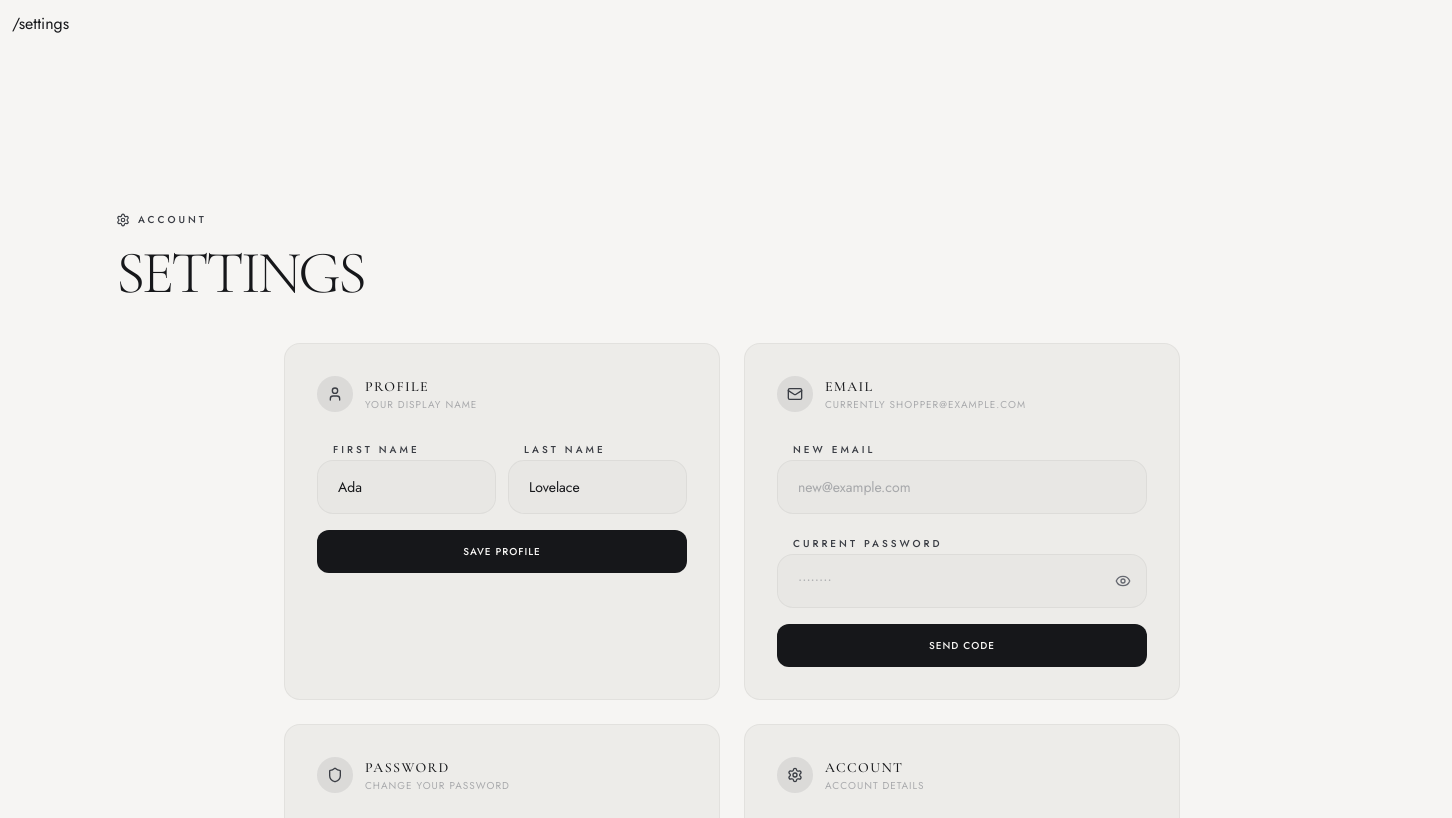
Scenario: SettingsPage › a failed profile save shows a message and leaves the store alone
The width and height of the screenshot is (1452, 818).
Click the button "Save Profile" at {"x": 502, "y": 552}, box left=317, top=530, right=687, bottom=573
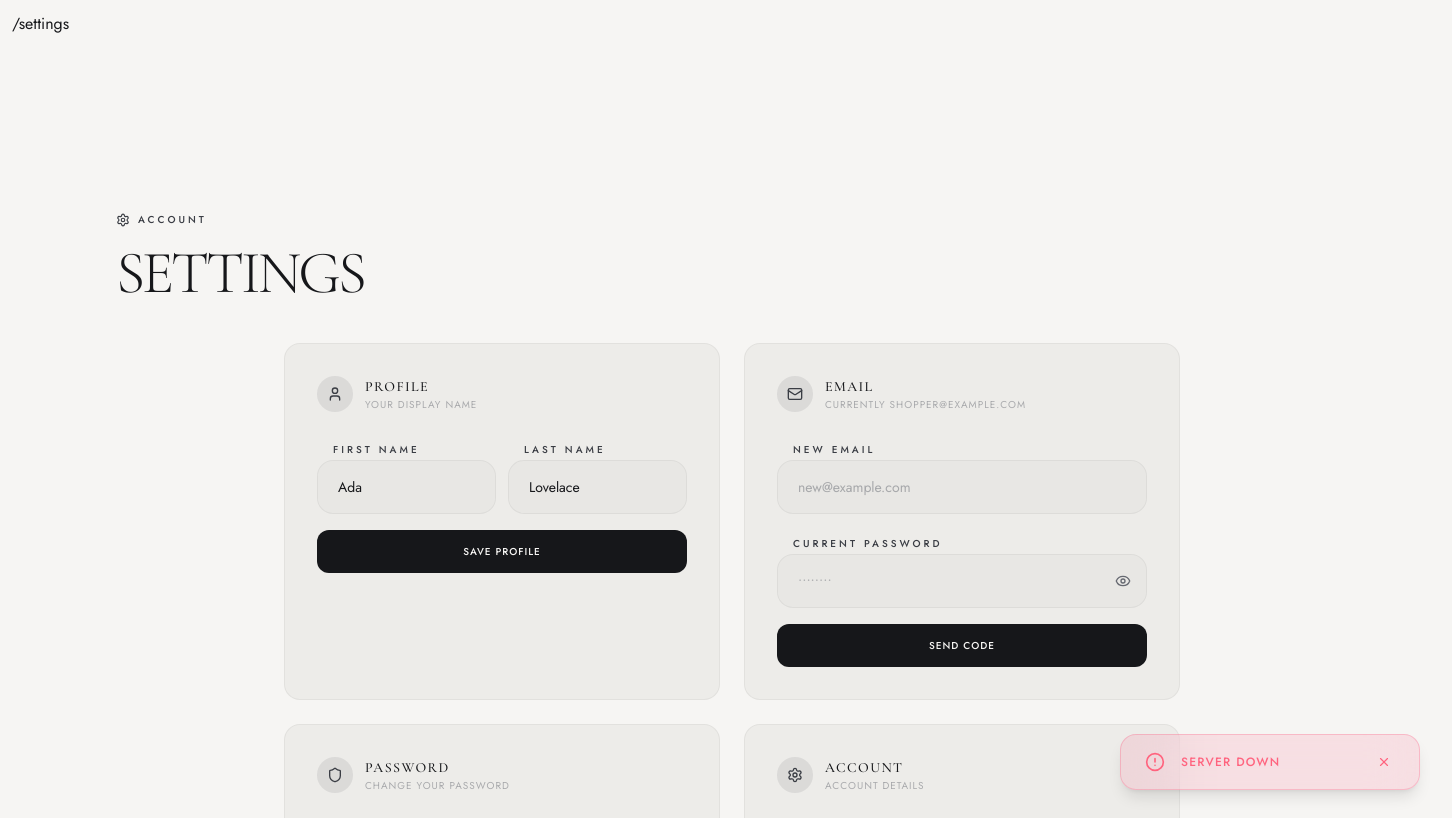
Expected: the text "Server down" is shown, left=1181, top=753, right=1280, bottom=771
